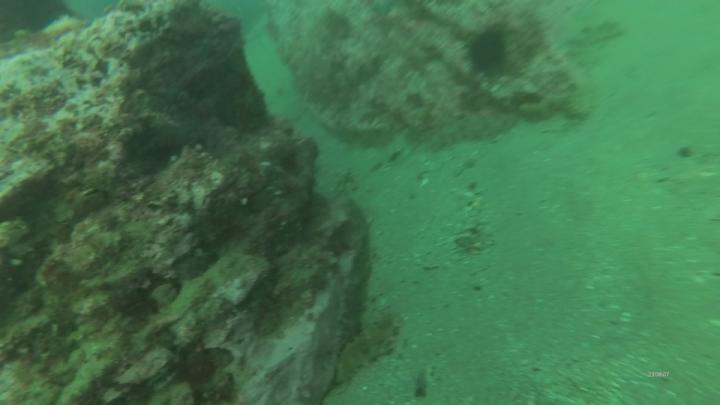echinus: (462, 19, 517, 81)
holothurian: (335, 303, 406, 381), (565, 16, 627, 52)
